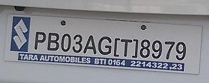0: (61, 33, 71, 53)
3: (72, 34, 83, 54)
7: (164, 40, 175, 60)
8: (139, 38, 151, 59)
9: (151, 39, 163, 59), (175, 41, 187, 61)
A: (83, 34, 97, 55)
B: (46, 32, 60, 52)
G: (97, 36, 113, 56)
P: (33, 31, 47, 50)
T: (120, 38, 132, 58)
